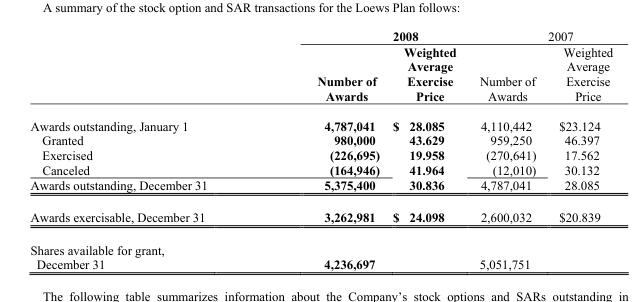table: (29, 28, 612, 271)
table column: (29, 28, 261, 271), (261, 28, 385, 271), (385, 28, 467, 271), (467, 28, 546, 271), (546, 28, 612, 271)
table column header: (29, 28, 612, 110)
table projected row header: (29, 233, 612, 256)
table row: (29, 43, 612, 110), (29, 200, 612, 233), (29, 177, 612, 200), (29, 233, 612, 256), (29, 110, 612, 132), (29, 28, 612, 43), (29, 132, 612, 147), (29, 147, 612, 162), (29, 162, 612, 177), (29, 256, 612, 271)
table spanning cell: (261, 28, 467, 43), (467, 28, 612, 43)
